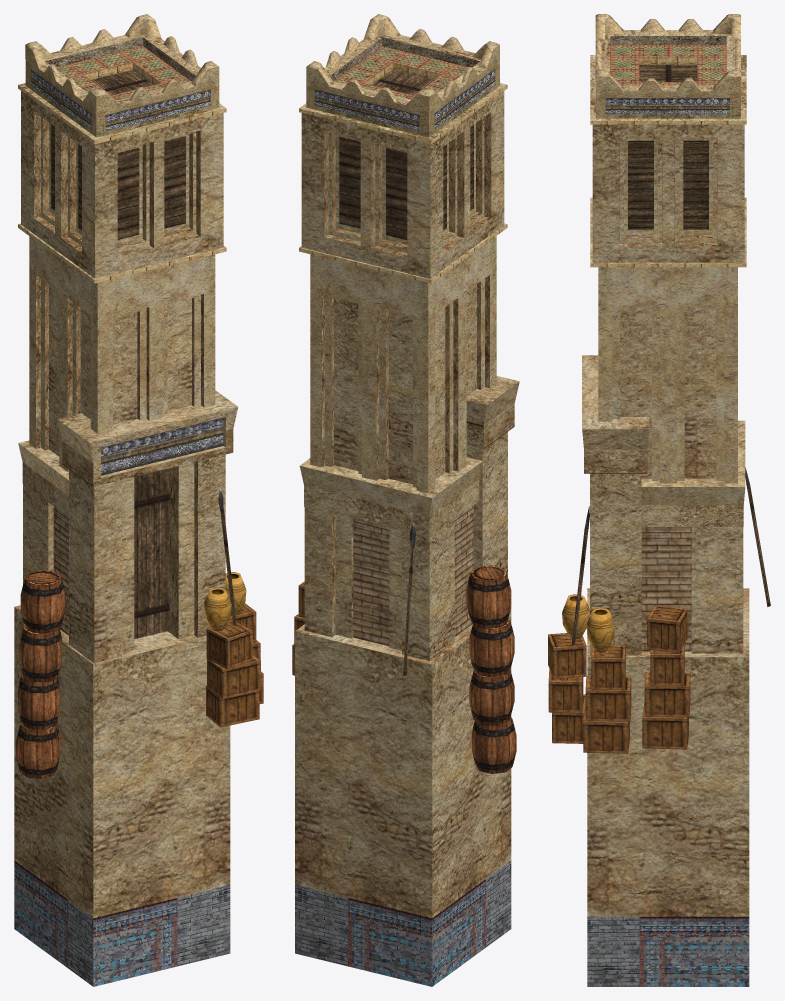
File: pers_scout_tower.glb
3 renders of one model, left to right at view 1: azimuth 30°, elevation 25°; view 2: azimuth 150°, elevation 25°; view 3: azimuth 270°, elevation 25°, orthographic. The views are drawn at different scales.
Bounding box in the file's own units: 8.16 × 33.34 × 7.41.
Materials: 1 (1 with a texture image).
